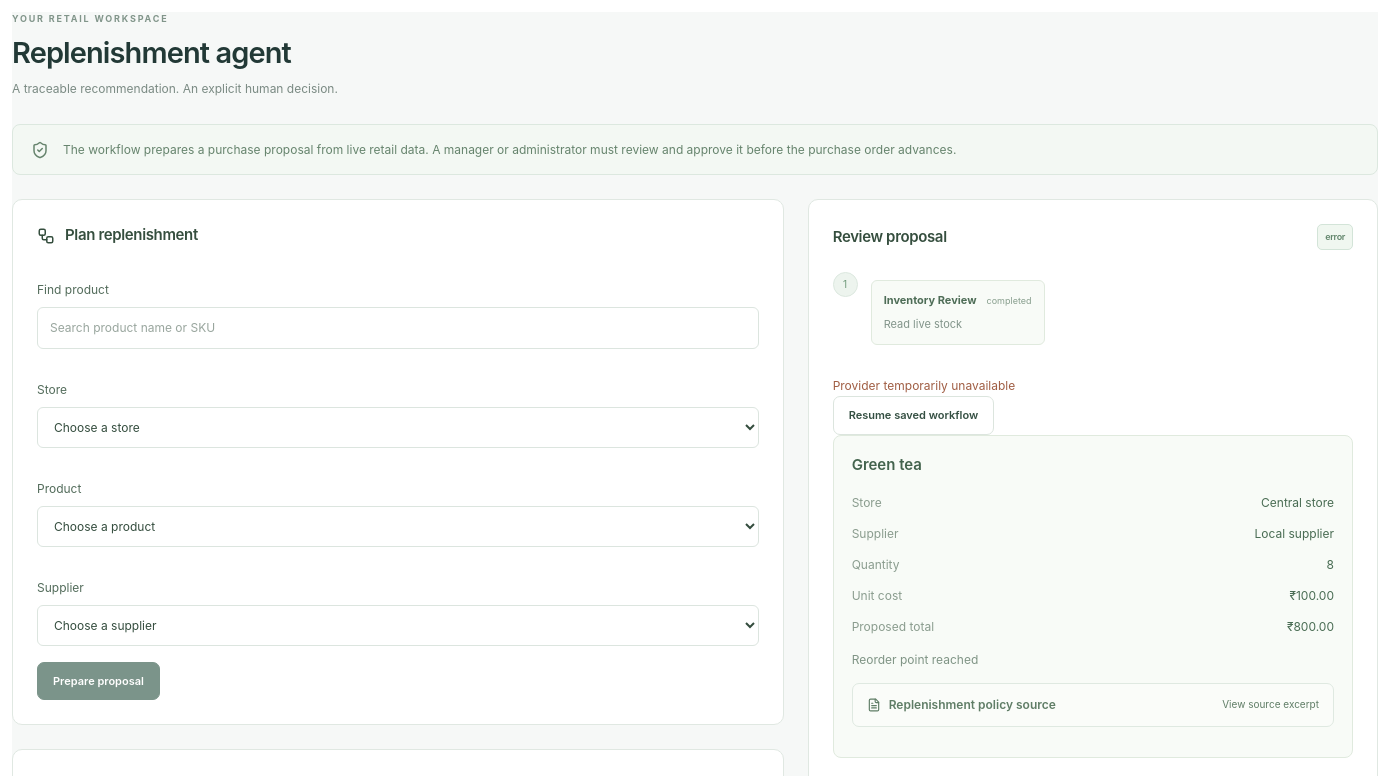
knowledge and human approval › resumes a saved error checkpoint only after an explicit manager action
Expected: the text "Provider temporarily unavailable" is shown, [833,378,1015,392]
Click the button "Resume saved workflow" at (913,415), box [833,396,994,435]
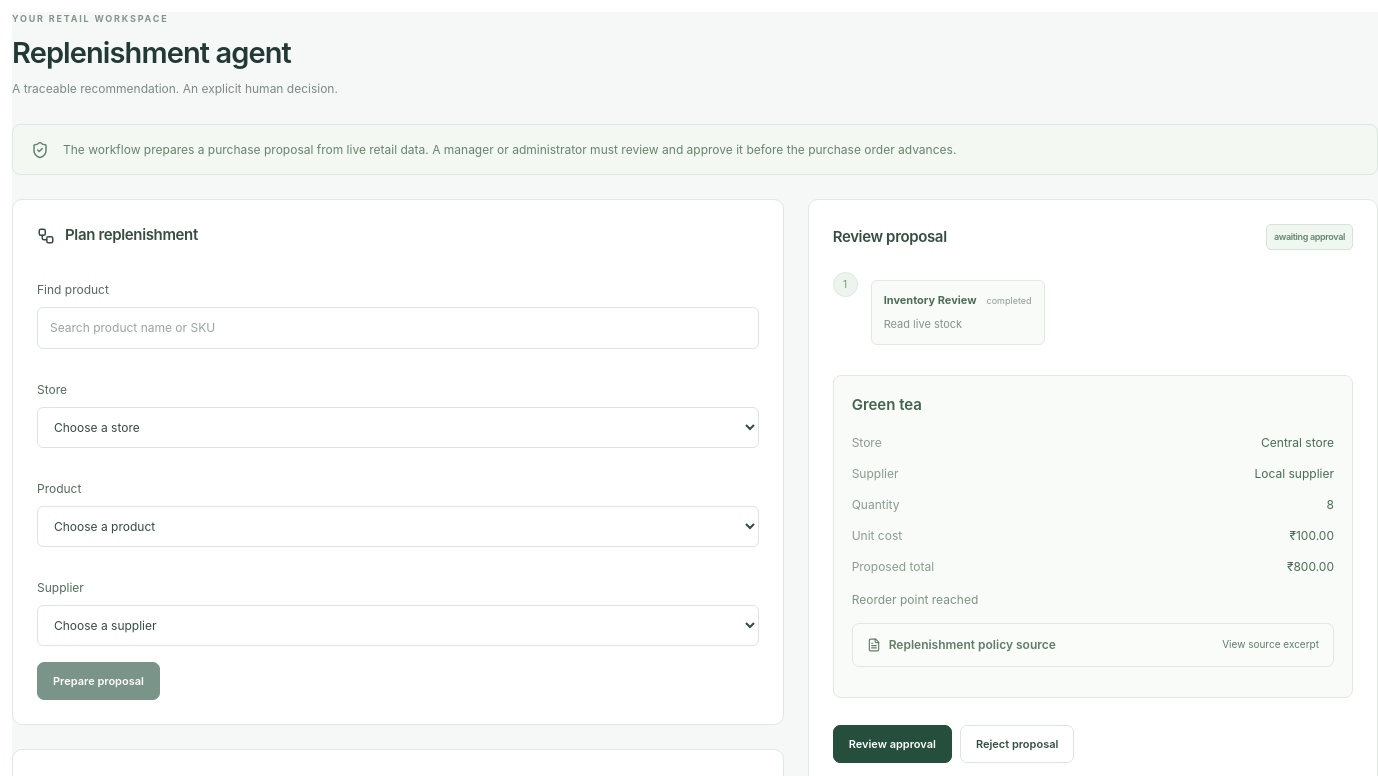
Now the button "Review approval" is shown, box [833,725,952,763]
